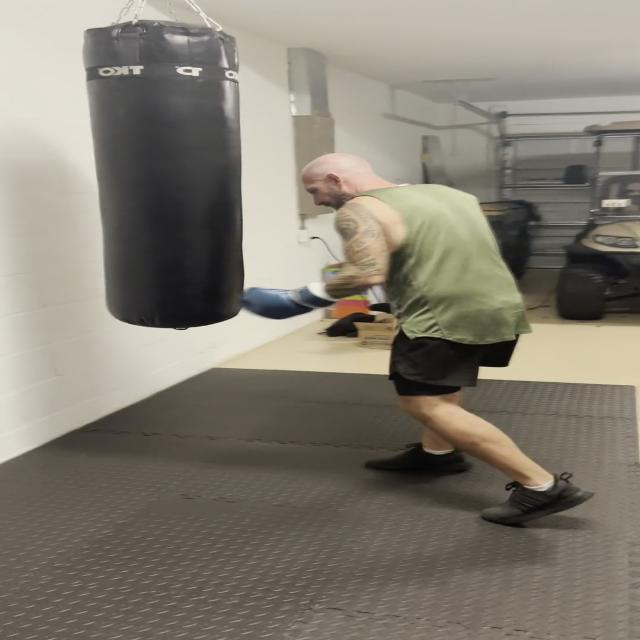bag: (82, 16, 240, 332)
uppercut: (233, 152, 507, 324)
